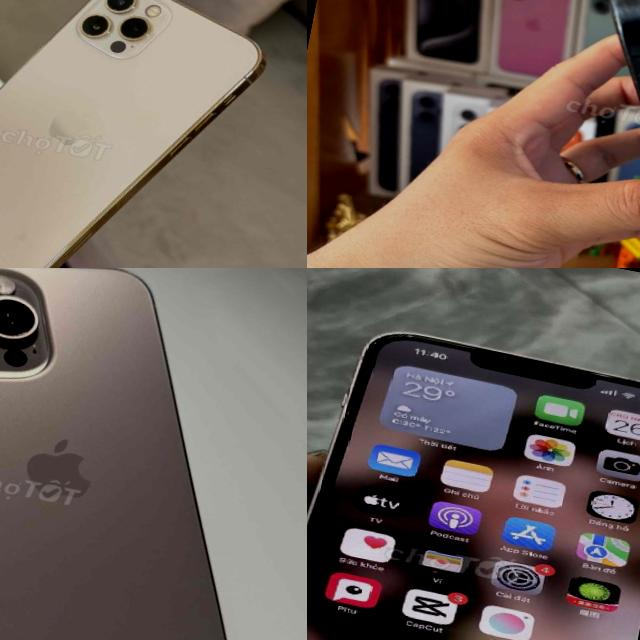scratch: (0, 268, 59, 388), (617, 53, 640, 132)
